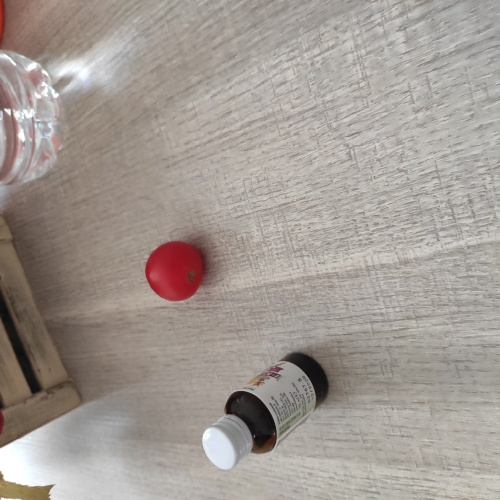pomodoro: (143, 239, 206, 305)
